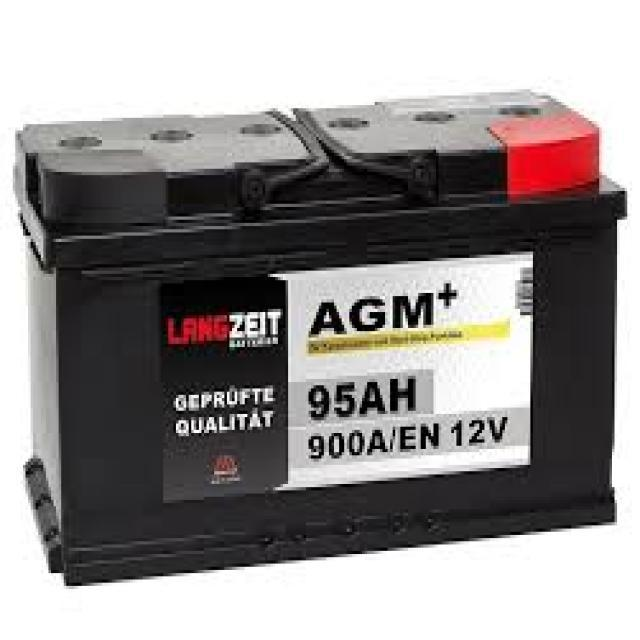Battery: (12, 88, 640, 601)
